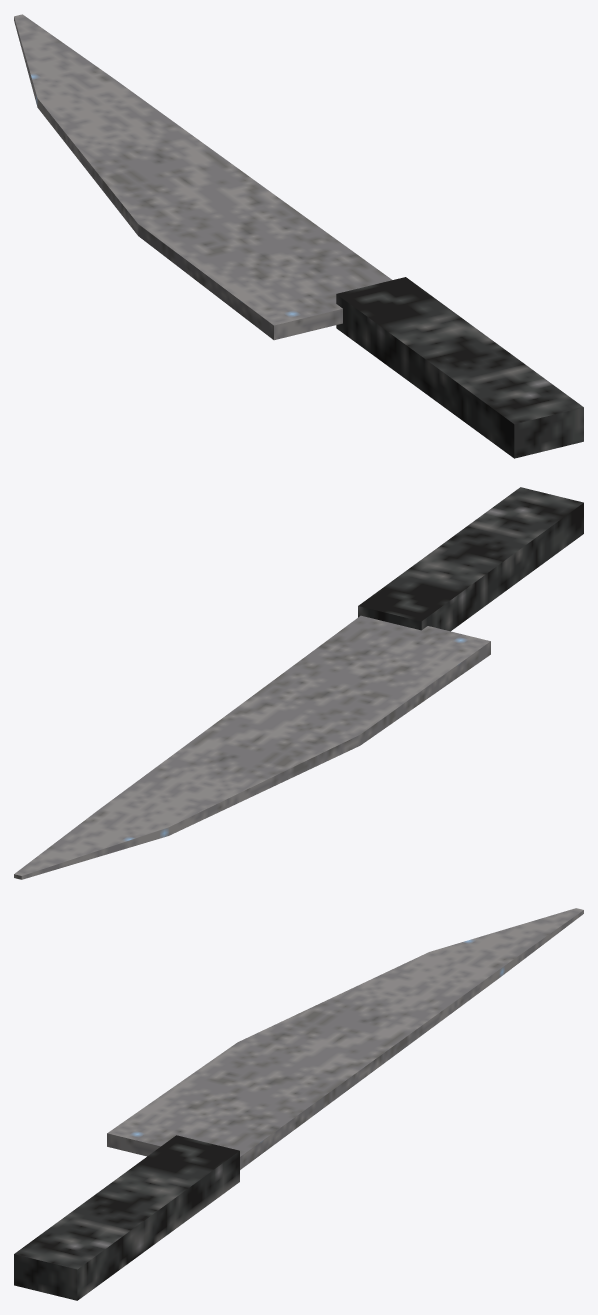
Rendered from SM_Dungeon_Knife_Large.fbx.
The picture shows the model from 3 angles, top to bottom: view 1: azimuth 30°, elevation 25°; view 2: azimuth 150°, elevation 25°; view 3: azimuth 330°, elevation 25°; orthographic projection. The views are drawn at different scales.
Visible parts, largest first — view 1: Cube; view 2: Cube; view 3: Cube.
Part boxes in pixels (left/top/right/bottom): Cube: left=14, top=14, right=583, bottom=458; Cube: left=14, top=487, right=583, bottom=879; Cube: left=14, top=908, right=583, bottom=1300.
Size of the model in its own units: 8.28 by 1.96 by 57.73.
